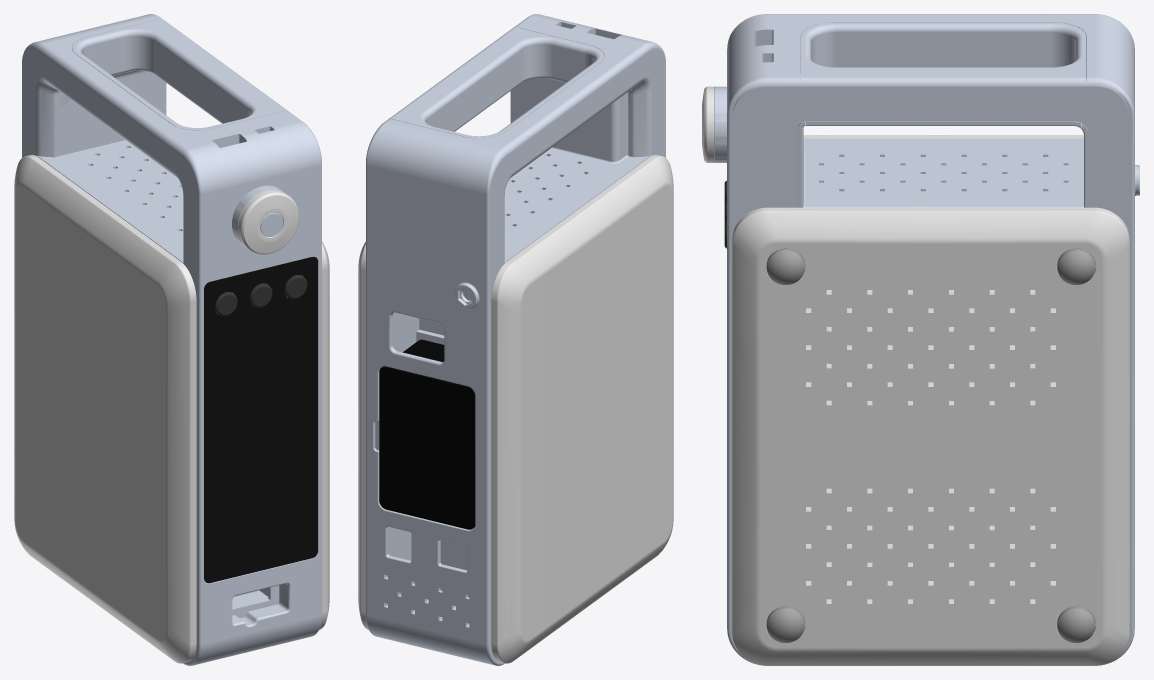
File: jd008_e_web.glb
3 views of the same model, side by side, from view 1: azimuth 30°, elevation 25°; view 2: azimuth 150°, elevation 25°; view 3: azimuth 270°, elevation 25° (orthographic). The views are drawn at different scales.
Bounding box in the file's own units: 0.0482 × 0.138 × 0.0929.
